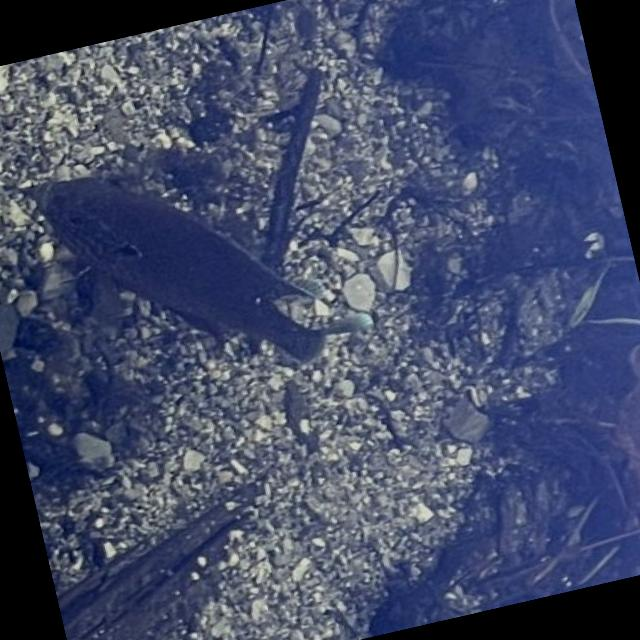Gunes Levregi: (14, 112, 382, 422)
